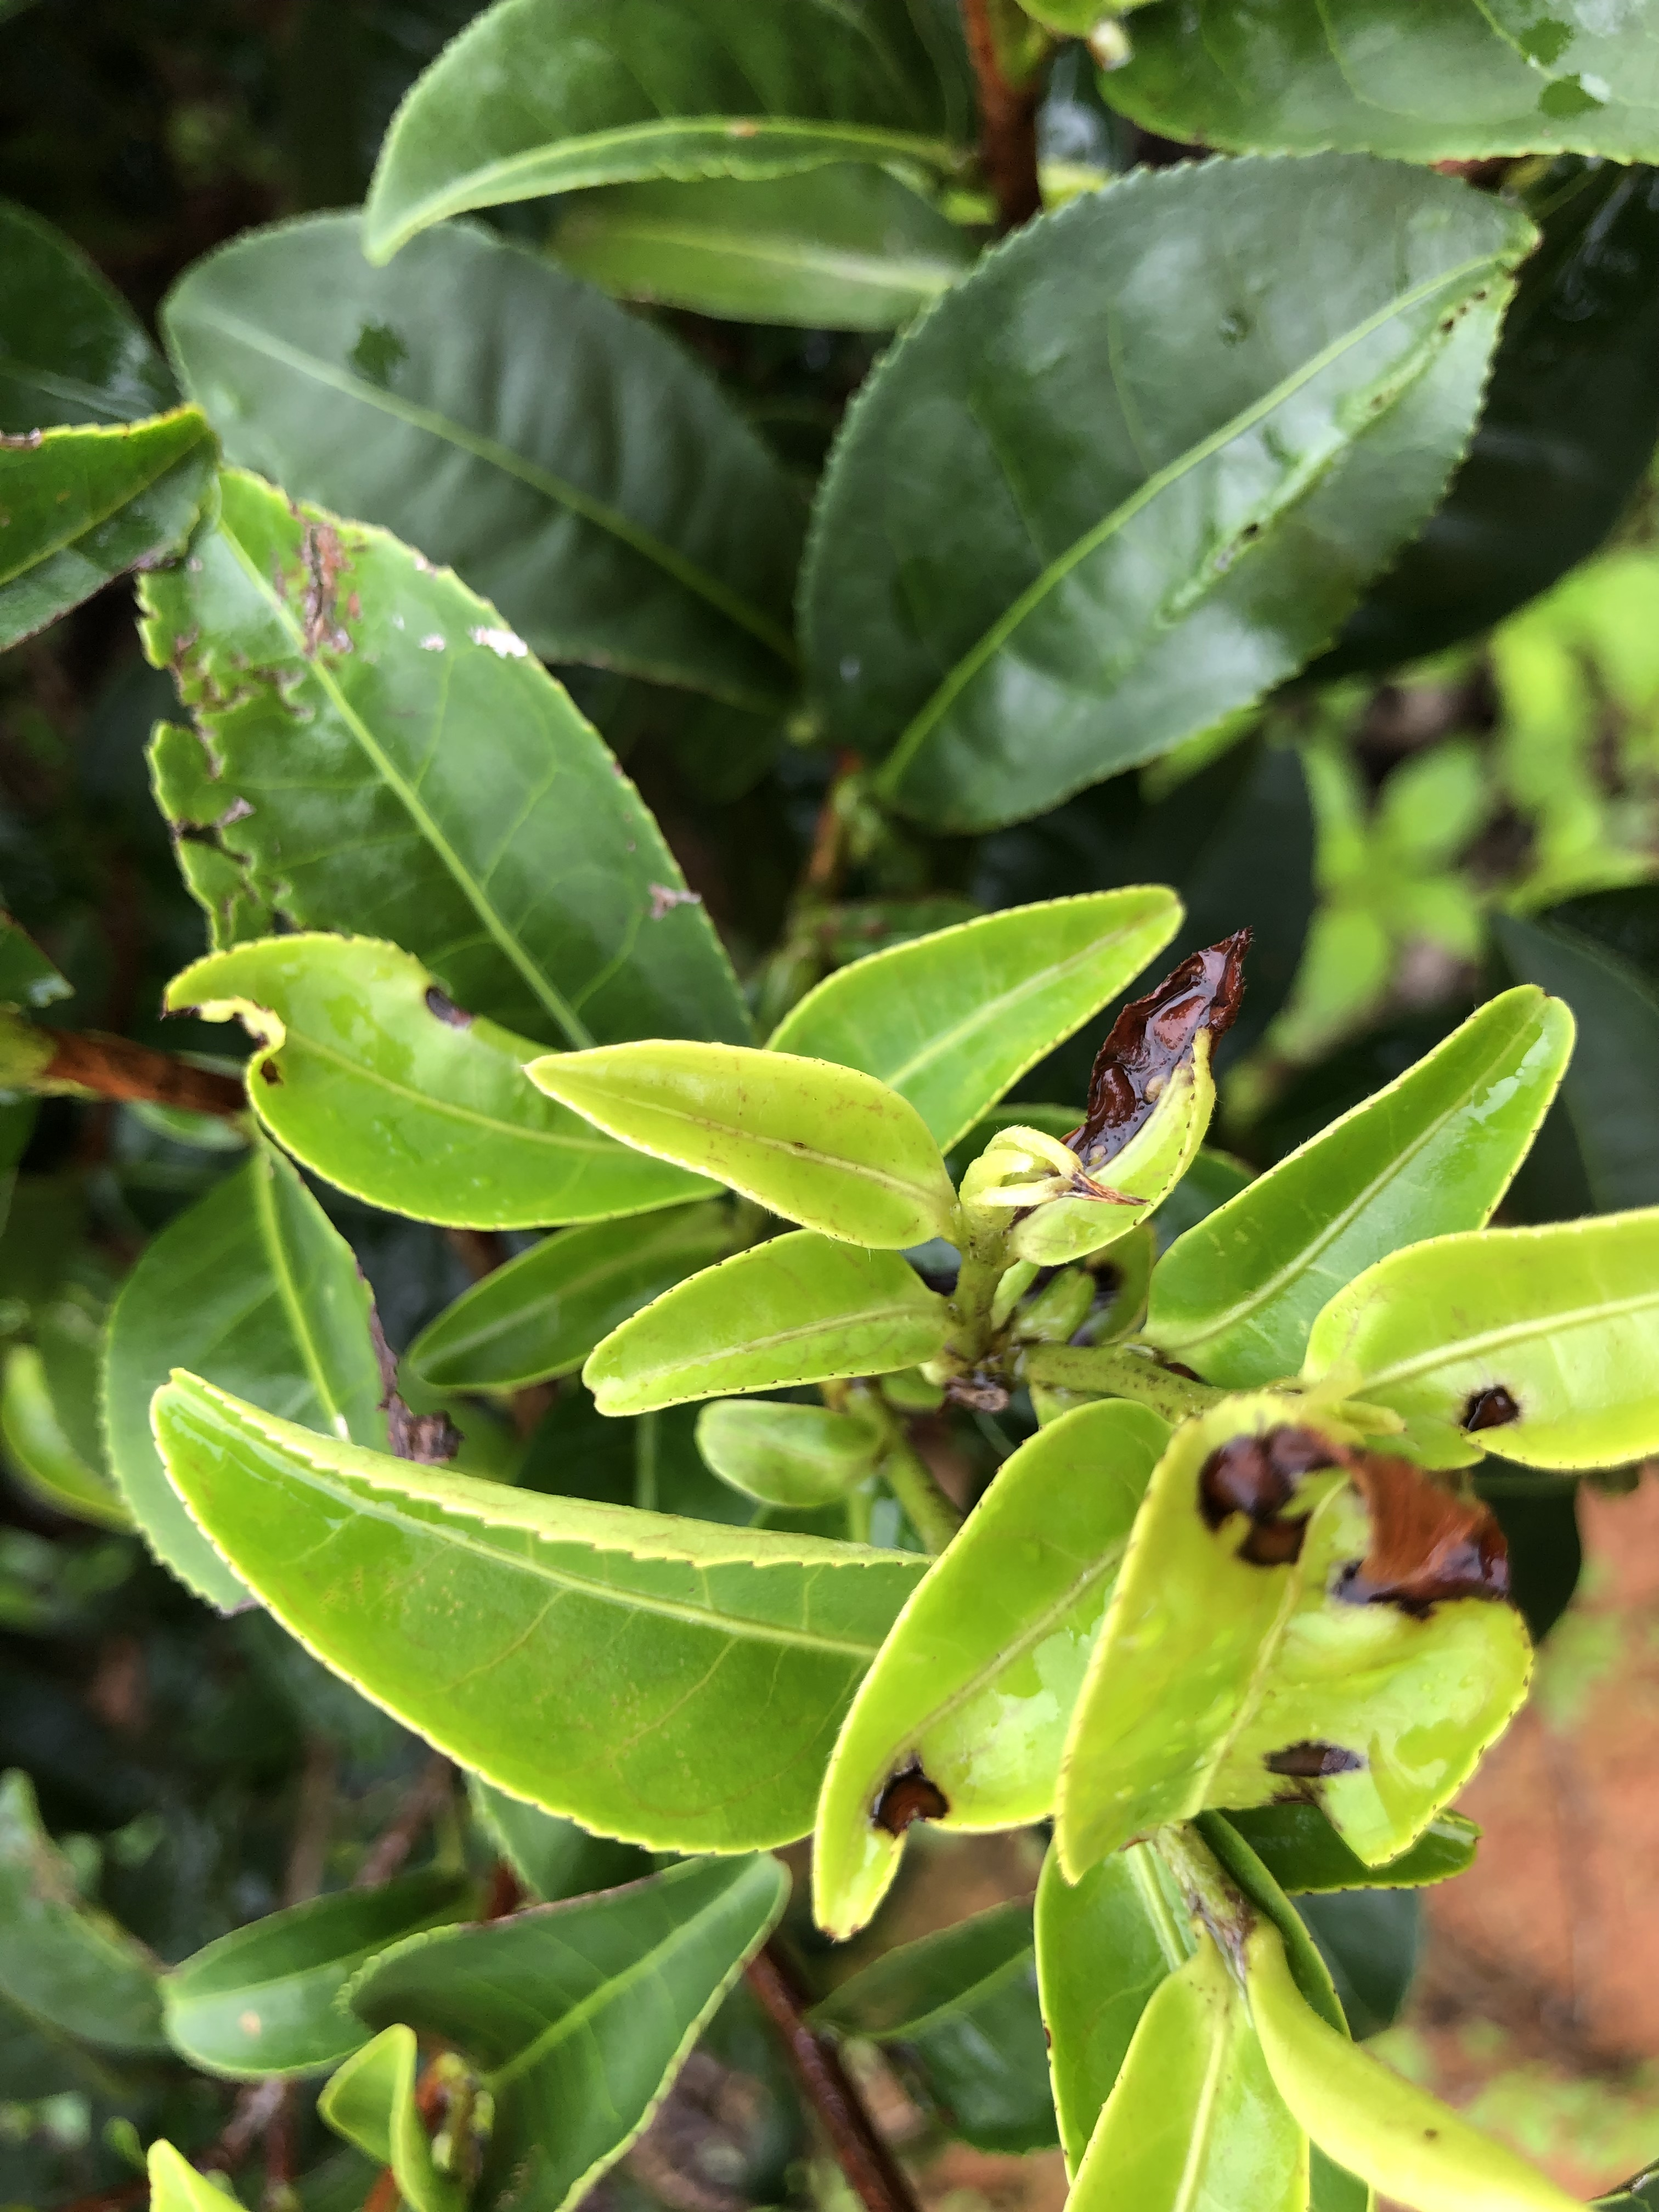formosa: (500, 1031, 972, 1251)
mosquito_early: (800, 1393, 1168, 1940), (964, 918, 1251, 1264)
mosquito_late: (1039, 1392, 1514, 1890)
